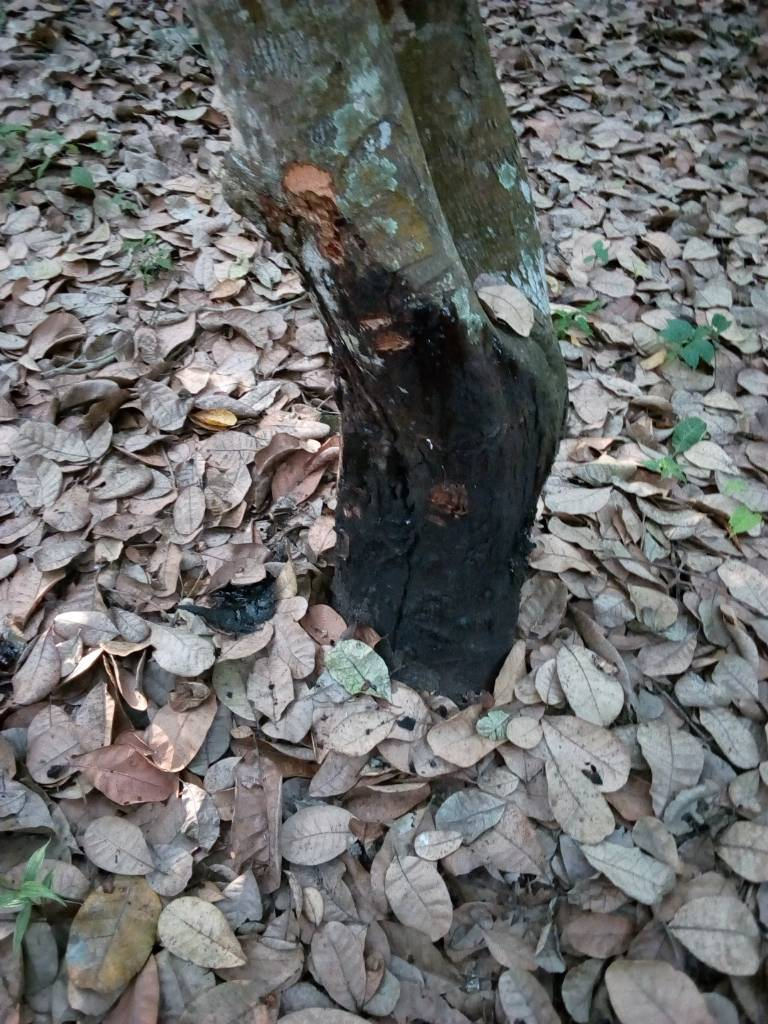Gommose: (340, 250, 541, 675)
